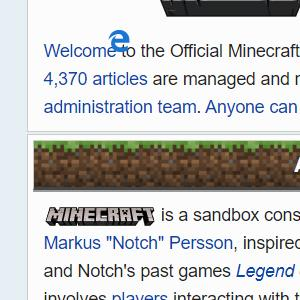edge: (108, 29, 130, 52)
